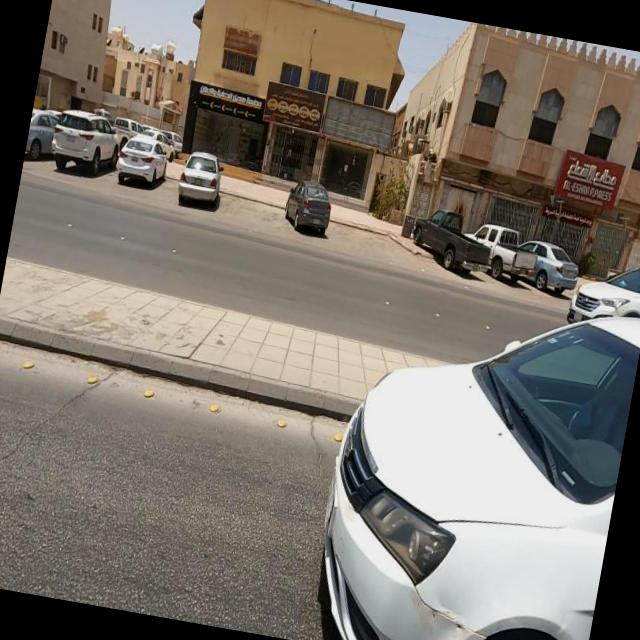debris: (276, 35, 440, 209)
